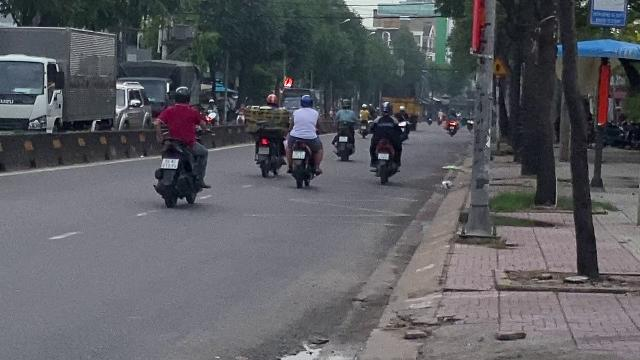helmet: (172, 86, 190, 105)
licenseplate: (161, 158, 177, 168)
motorcyclist: (154, 85, 210, 207)
